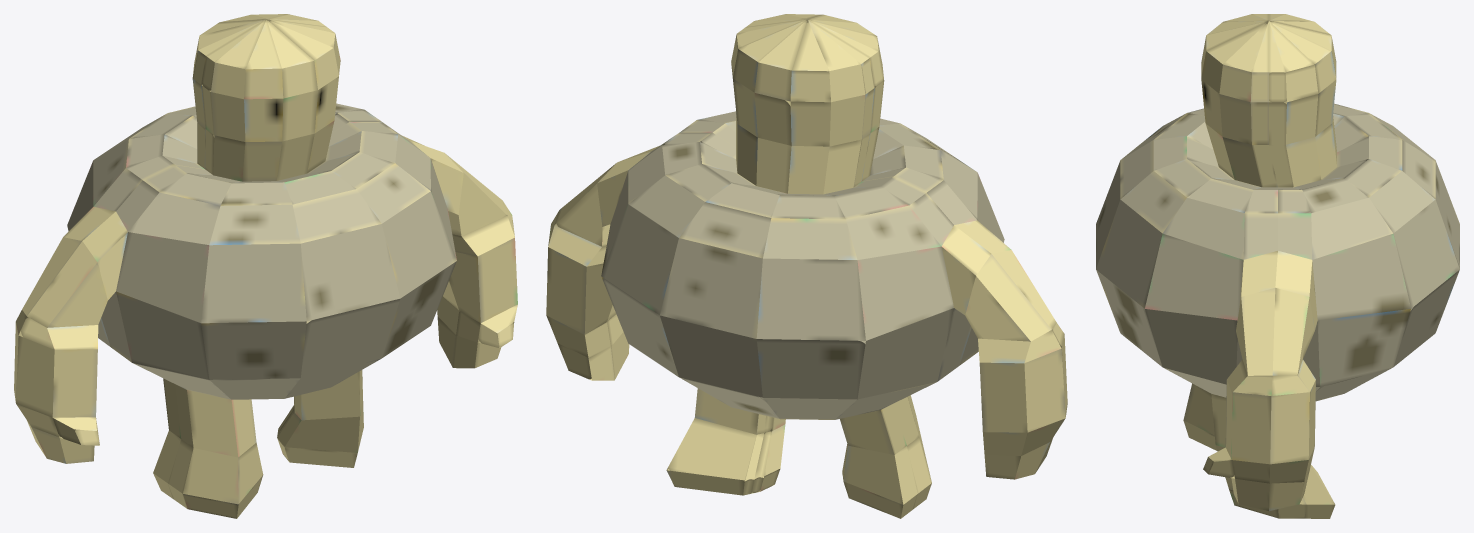
Rendered from puffshroom.obj.
3 renders of one model, left to right at view 1: azimuth 30°, elevation 25°; view 2: azimuth 150°, elevation 25°; view 3: azimuth 270°, elevation 25°, orthographic. The views are drawn at different scales.
Visible parts, largest first — view 1: sphere; view 2: sphere; view 3: sphere.
Boxes of the visible parts, x1,y1,x2,y2 form: sphere: [14, 14, 517, 518]; sphere: [546, 14, 1067, 518]; sphere: [1096, 14, 1459, 518].
Size of the model in its own units: 0.7887 by 0.6831 by 0.5.
Materials: 1 (1 with a texture image).
